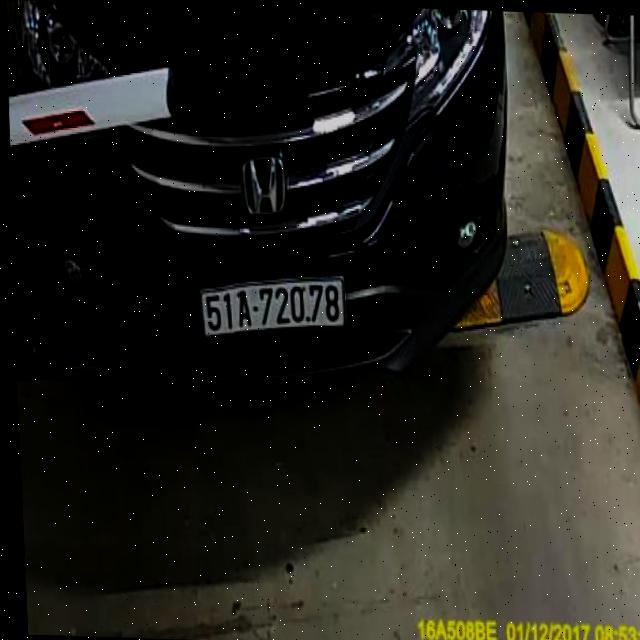car: (0, 0, 533, 417)
plate: (201, 274, 347, 338)
